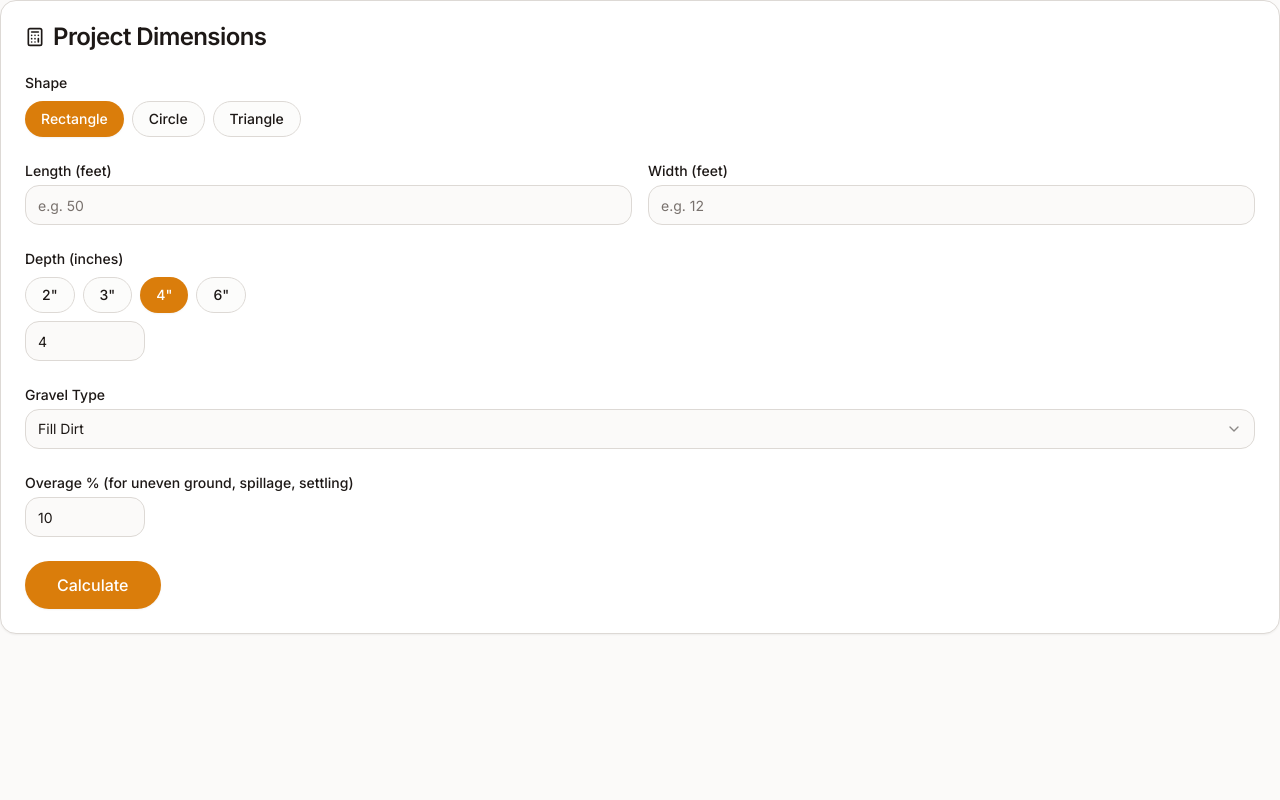
Test case: GravelCalculator › shape selection › should switch back to rectangle shape
Click the button "circle": [168, 119] box [132,101,205,137]
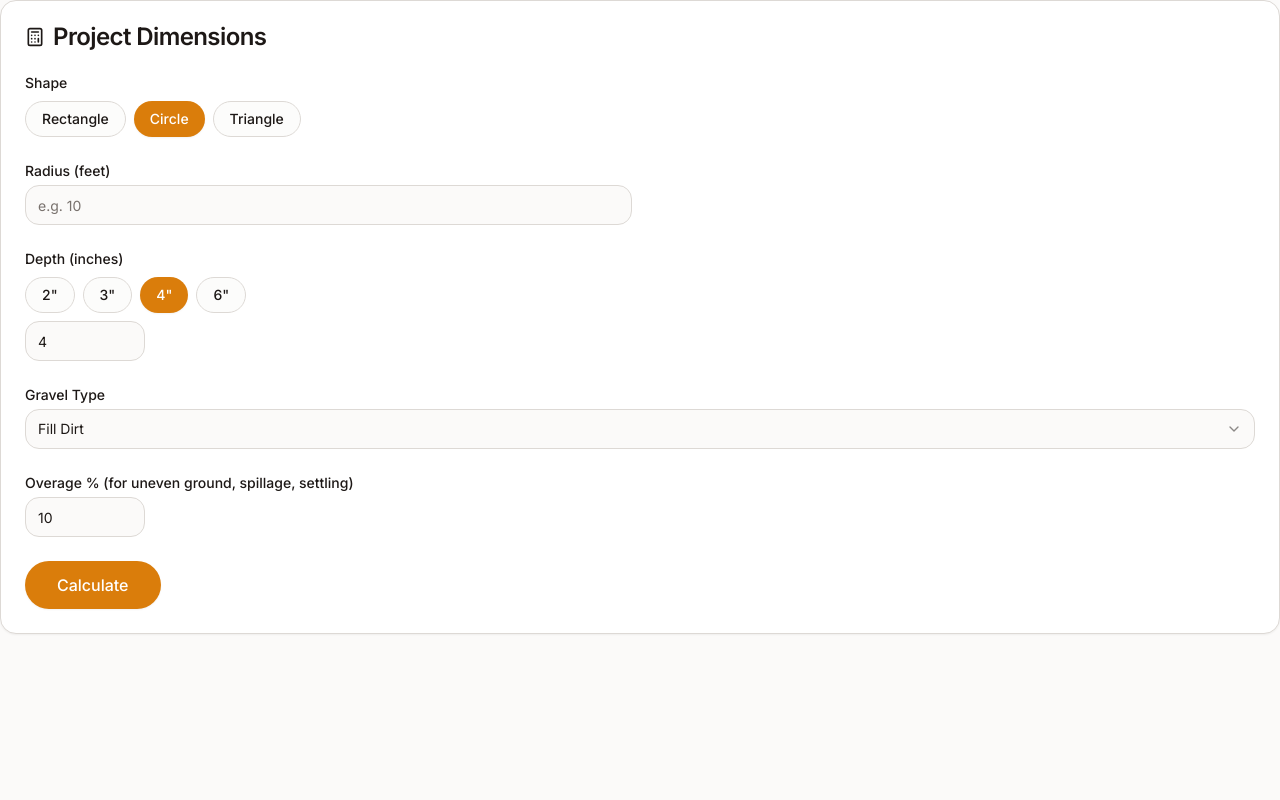
Click the button "rectangle": [75, 119] box [25,101,126,137]
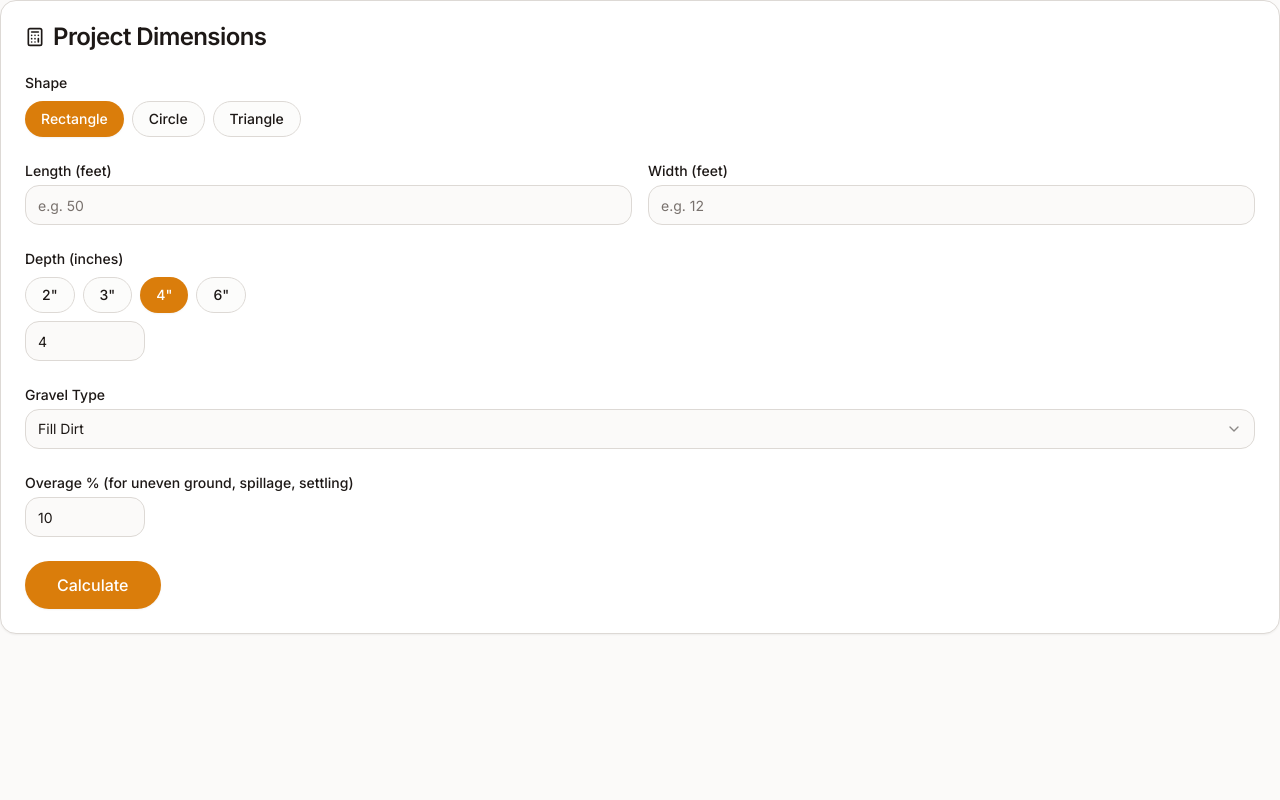
Expected: the number field with placeholder "e.g. 50" is shown, [25,185,632,225]
Expected: the number field with placeholder "e.g. 12" is shown, [648,185,1255,225]
